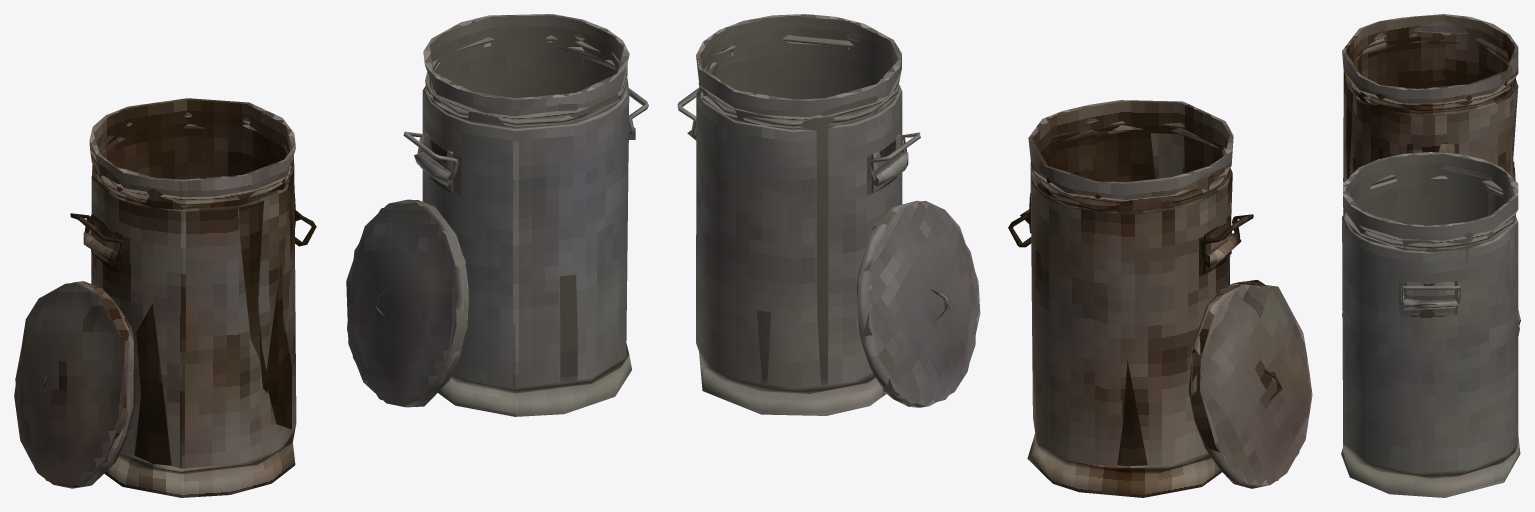
The model's file is metal_trash_can.glb.
The picture shows the model from 3 angles, left to right: view 1: azimuth 30°, elevation 25°; view 2: azimuth 150°, elevation 25°; view 3: azimuth 270°, elevation 25°; orthographic projection. The views are drawn at different scales.
Visible parts, largest first — view 1: metal_trash_can, metal_trash_can_rust, metal_trash_can_lid, metal_trash_can_rust_lid; view 2: metal_trash_can, metal_trash_can_rust, metal_trash_can_lid, metal_trash_can_rust_lid; view 3: metal_trash_can, metal_trash_can_rust, metal_trash_can_handle_right.
Boxes of the visible parts, <box> form: metal_trash_can: <box>414,14,635,416</box>; metal_trash_can_rust: <box>83,98,301,497</box>; metal_trash_can_lid: <box>346,199,469,407</box>; metal_trash_can_rust_lid: <box>14,281,135,488</box>; metal_trash_can: <box>687,14,908,415</box>; metal_trash_can_rust: <box>1020,100,1241,497</box>; metal_trash_can_lid: <box>856,200,980,407</box>; metal_trash_can_rust_lid: <box>1188,280,1312,488</box>; metal_trash_can: <box>1341,152,1520,497</box>; metal_trash_can_rust: <box>1342,14,1520,324</box>; metal_trash_can_handle_right: <box>1400,285,1460,304</box>.
Size of the model in its own units: 1.78 by 0.9062 by 0.5462.
2 materials, 2 textured.
